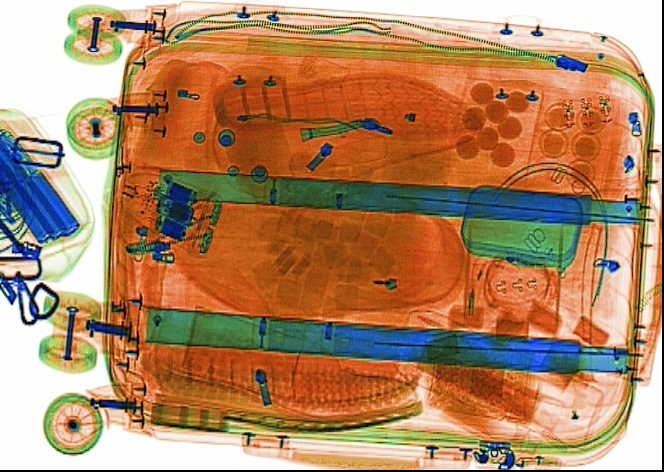powerbank: (3, 125, 83, 246)
